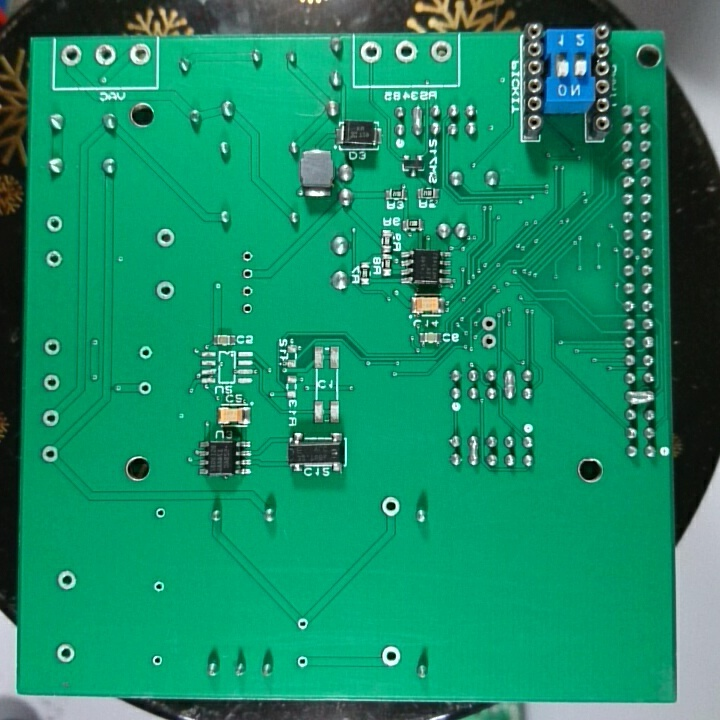F: (377, 640, 405, 672), (59, 39, 85, 73), (53, 566, 80, 597), (430, 38, 455, 69), (127, 40, 152, 70), (359, 39, 385, 66), (393, 39, 421, 64), (379, 492, 401, 523), (94, 42, 118, 70), (153, 279, 179, 303), (55, 641, 79, 666), (154, 224, 177, 250), (41, 372, 64, 395), (40, 439, 61, 464), (44, 211, 64, 236), (44, 247, 63, 273), (42, 335, 61, 359), (41, 406, 59, 429), (136, 378, 154, 400), (137, 343, 155, 365), (479, 315, 499, 334), (480, 331, 498, 351), (294, 615, 311, 635), (239, 297, 253, 320), (152, 578, 168, 597), (239, 284, 256, 300), (295, 653, 310, 671), (150, 651, 164, 669), (239, 249, 255, 264), (241, 264, 255, 281), (153, 503, 167, 520)
P: (409, 102, 427, 140), (501, 366, 517, 403), (626, 387, 656, 406), (466, 432, 480, 468)
